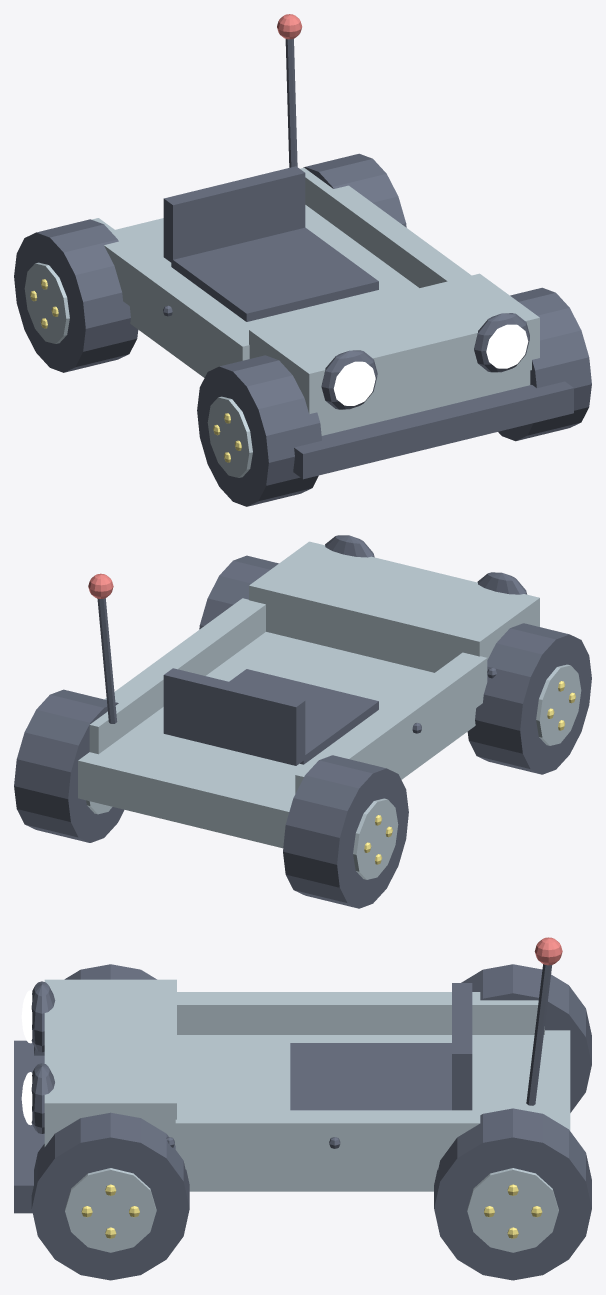
File: kart.glb
3 views of the same model, one above another, from view 1: azimuth 30°, elevation 25°; view 2: azimuth 150°, elevation 25°; view 3: azimuth 270°, elevation 25° (orthographic). The views are drawn at different scales.
Visible parts, largest first — view 1: paint (×4), wheel (×4), seat-pad, front-bumper, seat-back, headlight (×2), headlight-rim (×2), antenna; view 2: paint (×4), wheel (×4), seat-back, seat-pad, headlight-rim (×2), antenna, antenna-tip; view 3: paint (×4), wheel (×4), seat-pad, front-bumper, seat-back, headlight-rim (×2), antenna, headlight (×2), antenna-tip.
Part boxes in pixels (x1,y1,x2,y2): paint (×4): [92, 167, 539, 435]; wheel (×4): [14, 153, 591, 506]; seat-pad: [171, 227, 378, 321]; front-bumper: [293, 381, 573, 479]; seat-back: [163, 166, 305, 263]; headlight (×2): [333, 324, 528, 405]; headlight-rim (×2): [321, 313, 529, 409]; antenna: [285, 38, 297, 167]; paint (×4): [78, 541, 539, 848]; wheel (×4): [14, 555, 591, 908]; seat-back: [163, 668, 305, 765]; seat-pad: [229, 669, 378, 764]; headlight-rim (×2): [325, 535, 526, 594]; antenna: [97, 598, 117, 723]; antenna-tip: [88, 573, 113, 598]; paint (×4): [44, 979, 570, 1191]; wheel (×4): [31, 964, 591, 1280]; seat-pad: [290, 1043, 451, 1110]; front-bumper: [14, 1040, 44, 1213]; seat-back: [452, 983, 472, 1110]; headlight-rim (×2): [31, 981, 55, 1133]; antenna: [526, 964, 552, 1105]; headlight (×2): [21, 990, 32, 1125]; antenna-tip: [534, 937, 562, 965].
Bounding box in the file's own units: 2.09 × 1.63 × 2.8.
